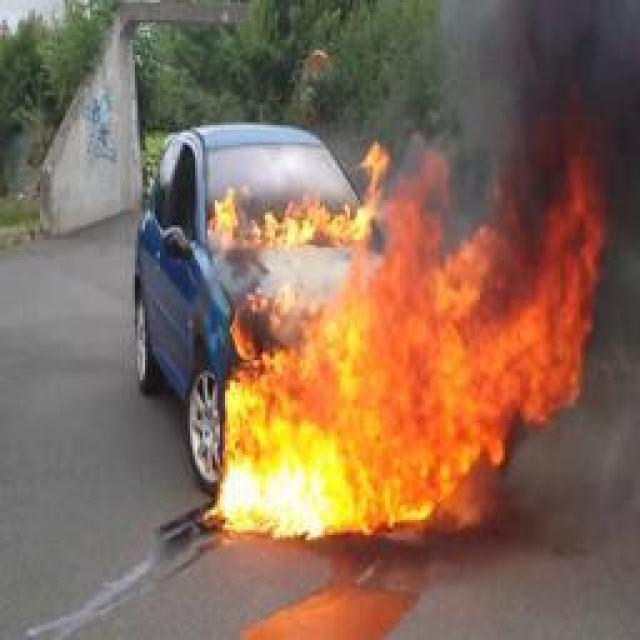Fire: (210, 145, 602, 540), (210, 146, 392, 252)
